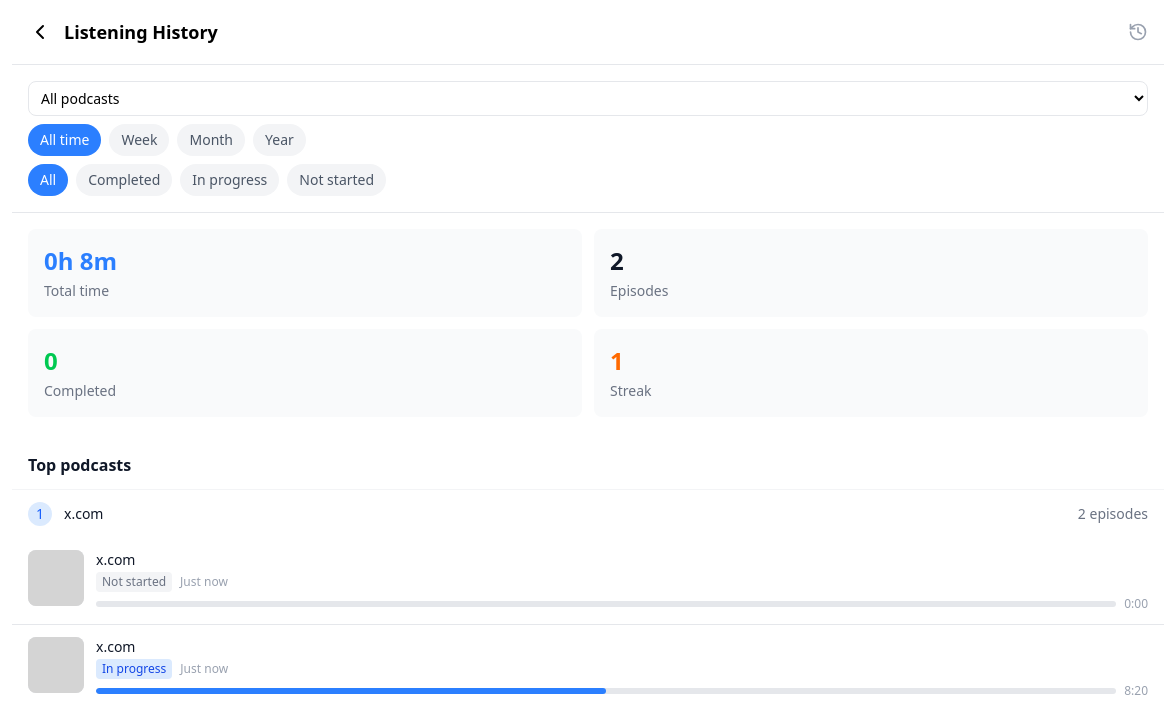
Test: ListeningHistory › stats visibility when filters exclude results (Finding 2) › keeps stat cards visible when filters exclude all results
This screenshot has width=1176, height=720.
Check: the text "Total time" is shown, box [44,281,109,300]
Check: the number of buttons with test id "history-row" is 2, box [12,538,1164,625]; [12,625,1164,711]
Note: Click "Completed" filter (no completed episodes, so filtered will be empty)
Click the button "Completed".
click(124, 180)  # box [76,164,172,196]
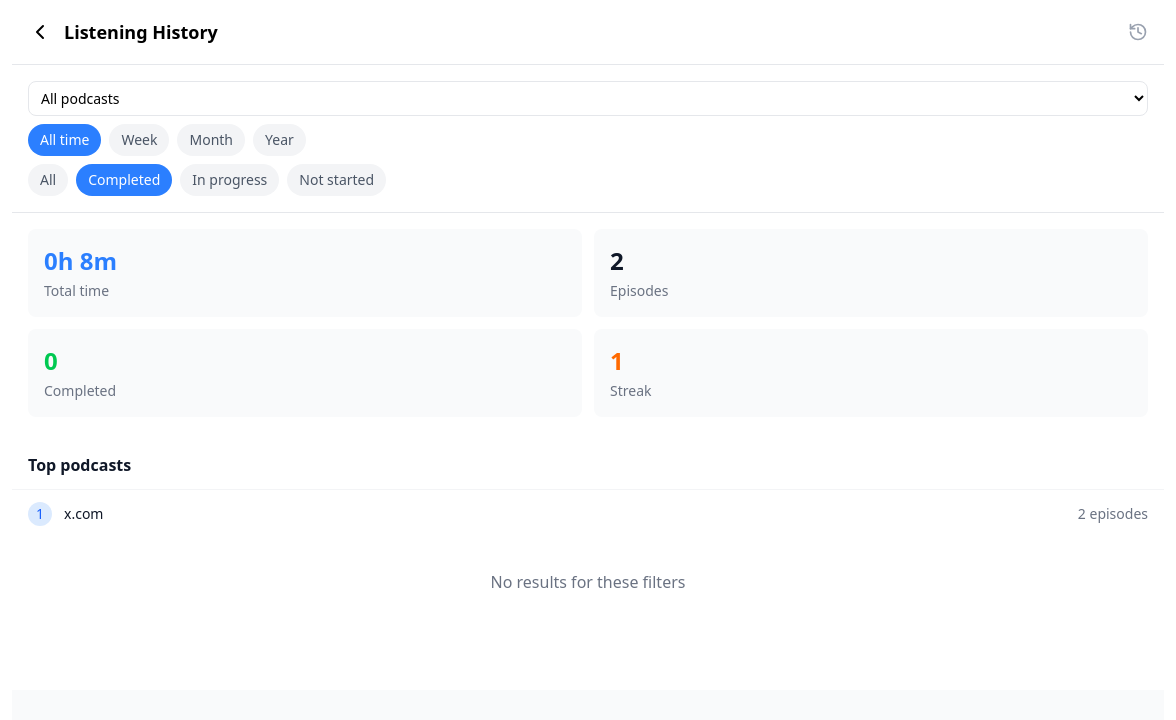
Check: the text "Total time" is shown, box [44,281,109,300]
Check: the text "No results for these filters" is shown, box [490,571,685,593]
Check: no buttons with test id "history-row" are shown
